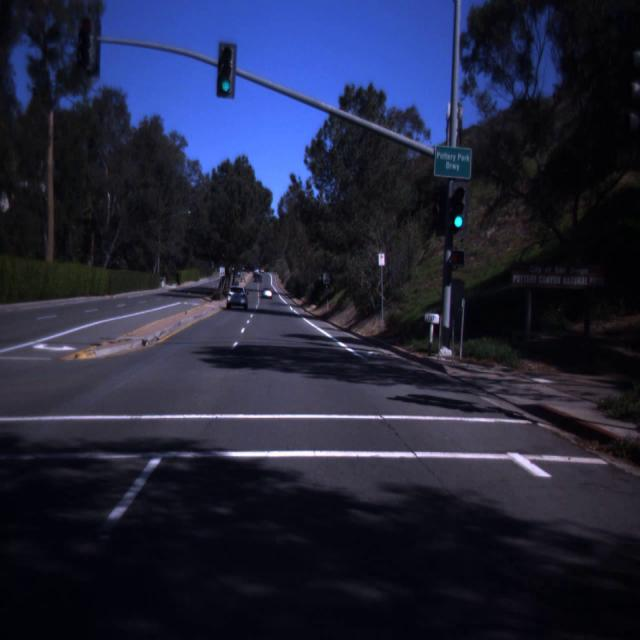arka_lamba: (80, 18, 94, 72)
yesil: (450, 181, 466, 232), (220, 42, 234, 98)
